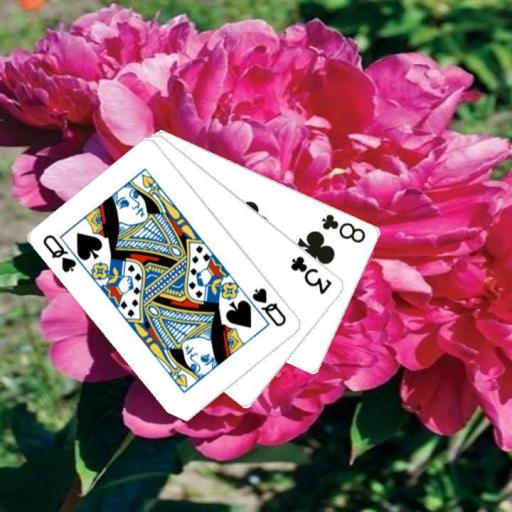3C: (288, 253, 335, 297)
8C: (319, 211, 368, 245)
QS: (249, 285, 288, 329), (40, 231, 79, 275)
